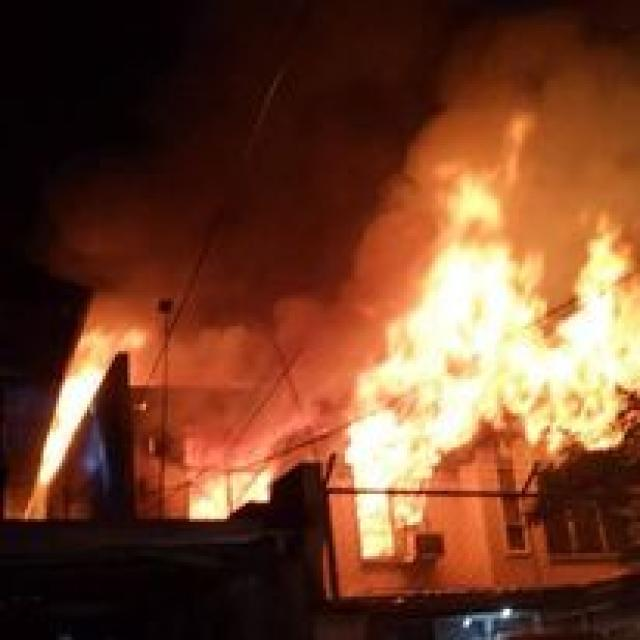Fire: (345, 115, 640, 556), (192, 461, 280, 530)
